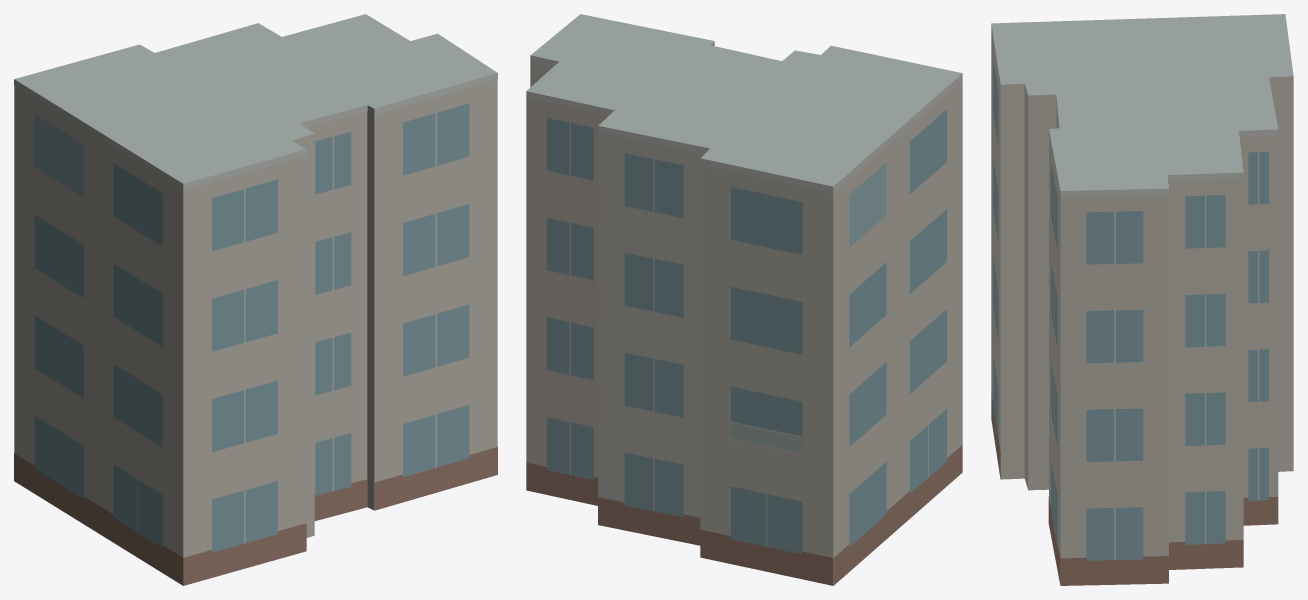
Rendered from survey-upis-32895955.glb.
3 renders of one model, left to right at view 1: azimuth 30°, elevation 25°; view 2: azimuth 150°, elevation 25°; view 3: azimuth 270°, elevation 25°, orthographic.
Visible parts, largest first — view 1: survey-upis-32895955.tmp; view 2: survey-upis-32895955.tmp; view 3: survey-upis-32895955.tmp.
Boxes of the visible parts, x1=… form: survey-upis-32895955.tmp: x1=14, y1=14, x2=497, y2=585; survey-upis-32895955.tmp: x1=526, y1=14, x2=962, y2=585; survey-upis-32895955.tmp: x1=991, y1=14, x2=1293, y2=585.
Size of the model in its own units: 15 by 15.6 by 10.83.
